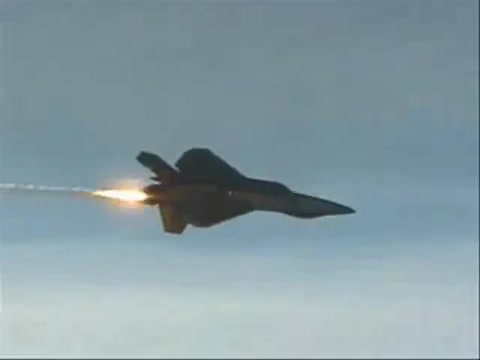aeroplane: (136, 148, 359, 237)
